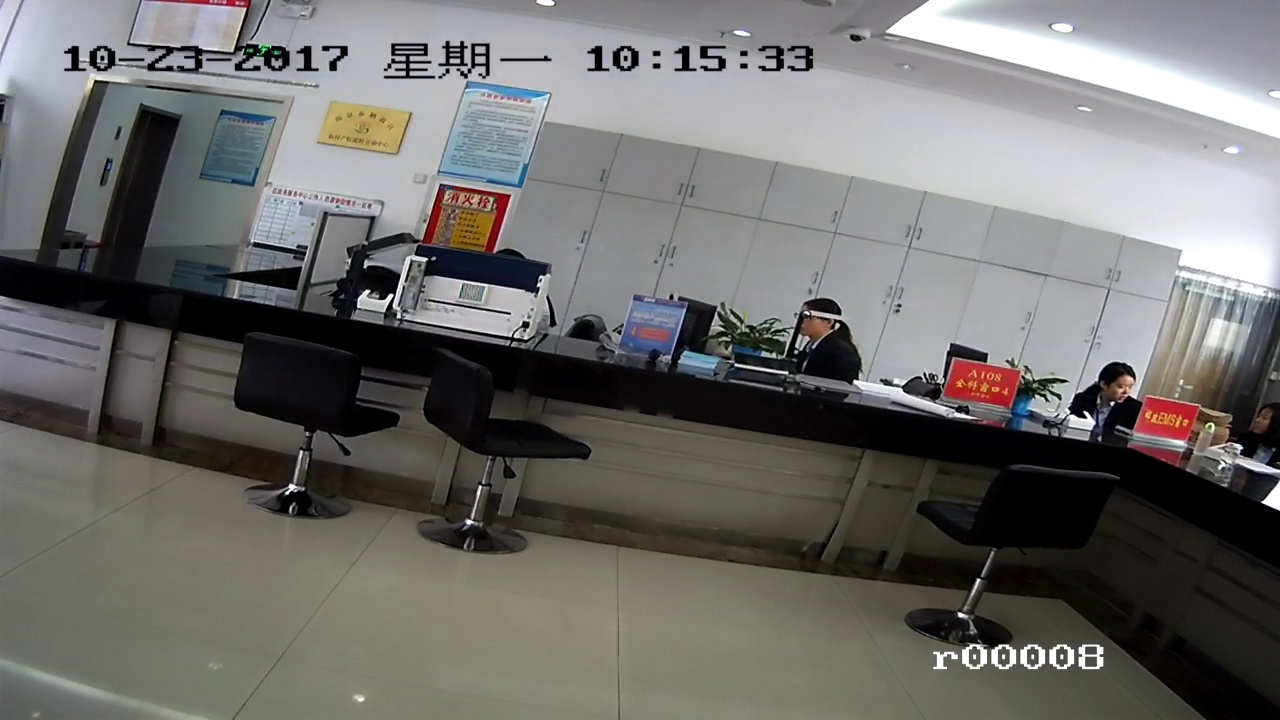billboard: (455, 94, 530, 187), (319, 107, 402, 157), (940, 367, 1027, 408), (214, 115, 261, 184)
chair: (909, 454, 1135, 658), (424, 363, 594, 554), (227, 337, 385, 523)
person: (797, 296, 868, 371), (1086, 350, 1137, 427), (1244, 403, 1275, 467)
pot: (716, 307, 783, 367), (1009, 361, 1053, 419)
